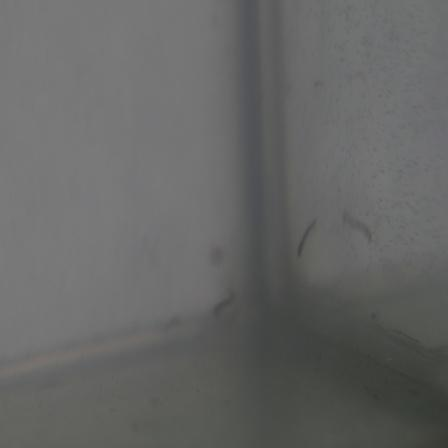Jentik-Nyamuk: (292, 217, 321, 261)
